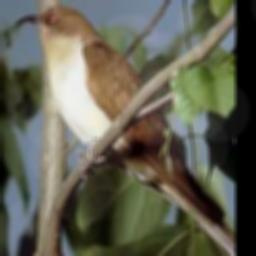Cuckoo: (14, 0, 235, 256)
